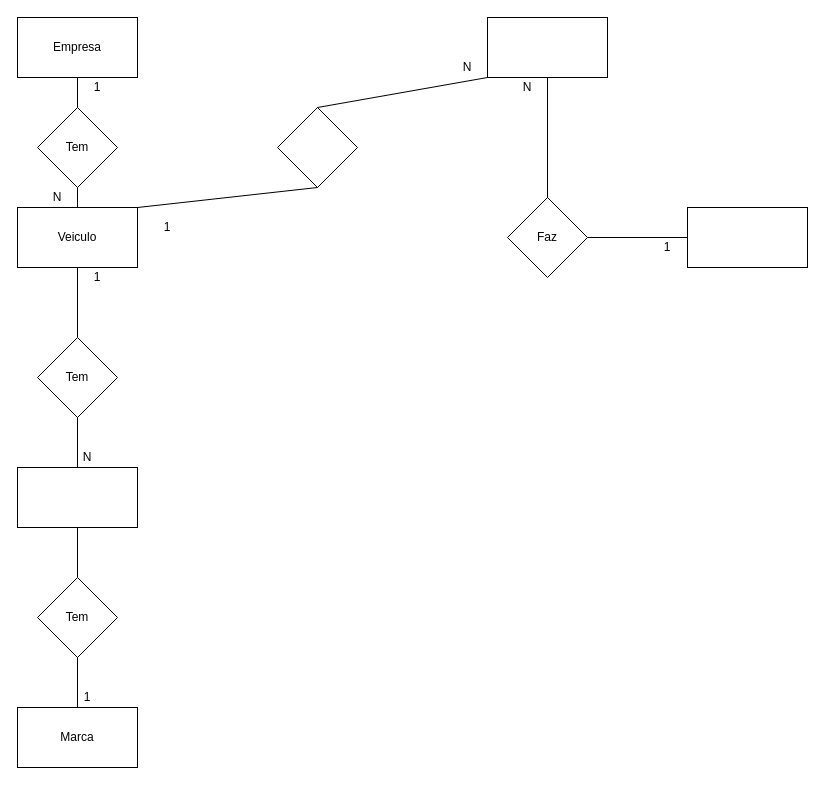
This 825x785 diagram has some shape labels left out. Each missing label, with the box of its shape:
Aluguel: (486, 16, 608, 78)
Cliente: (686, 206, 808, 268)
Modelo: (16, 466, 138, 528)
Pode: (276, 106, 358, 188)
